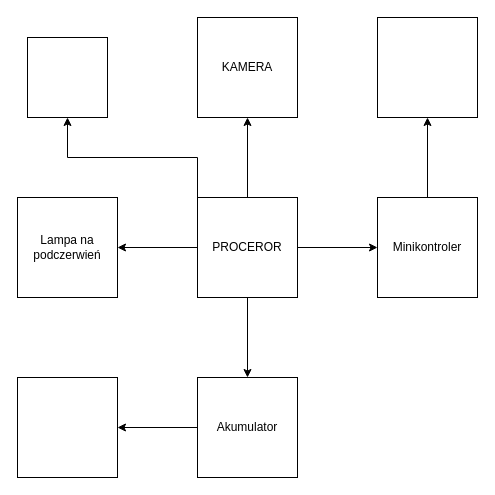
Image size: 495x495. Some labels were removed from this diagram. The centre of each missing label's shape, as x and y in pixels:
Czujnik ruchu: the point at 427,67
Panele słoneczne: the point at 67,427
